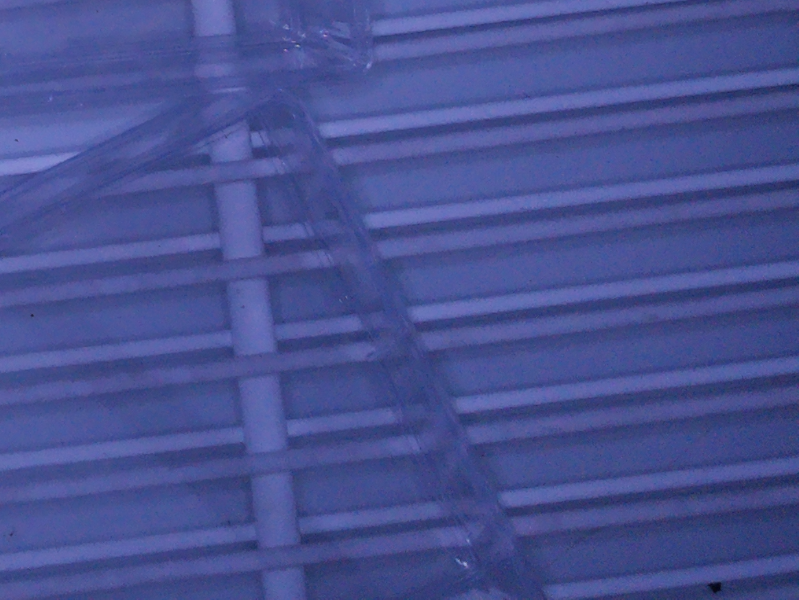plate: (1, 79, 549, 600), (1, 1, 380, 105)
